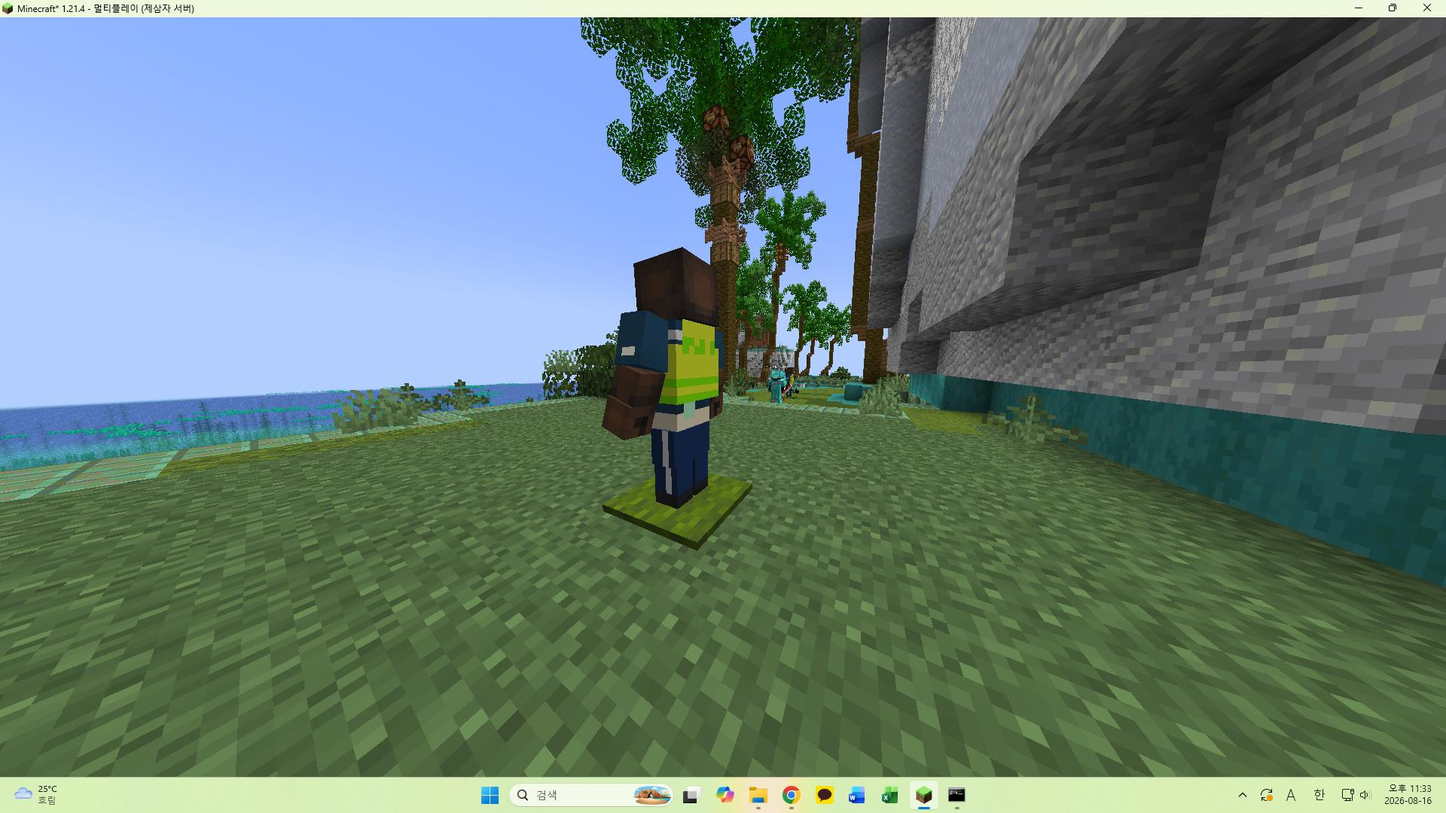Guardian: (602, 248, 726, 507)
